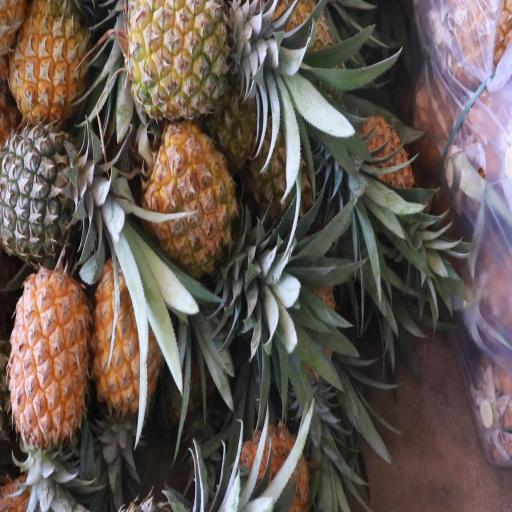Pineapple - v8 v1: (144, 123, 274, 307), (122, 0, 280, 124), (8, 264, 92, 495), (90, 251, 161, 415), (6, 0, 95, 119)
